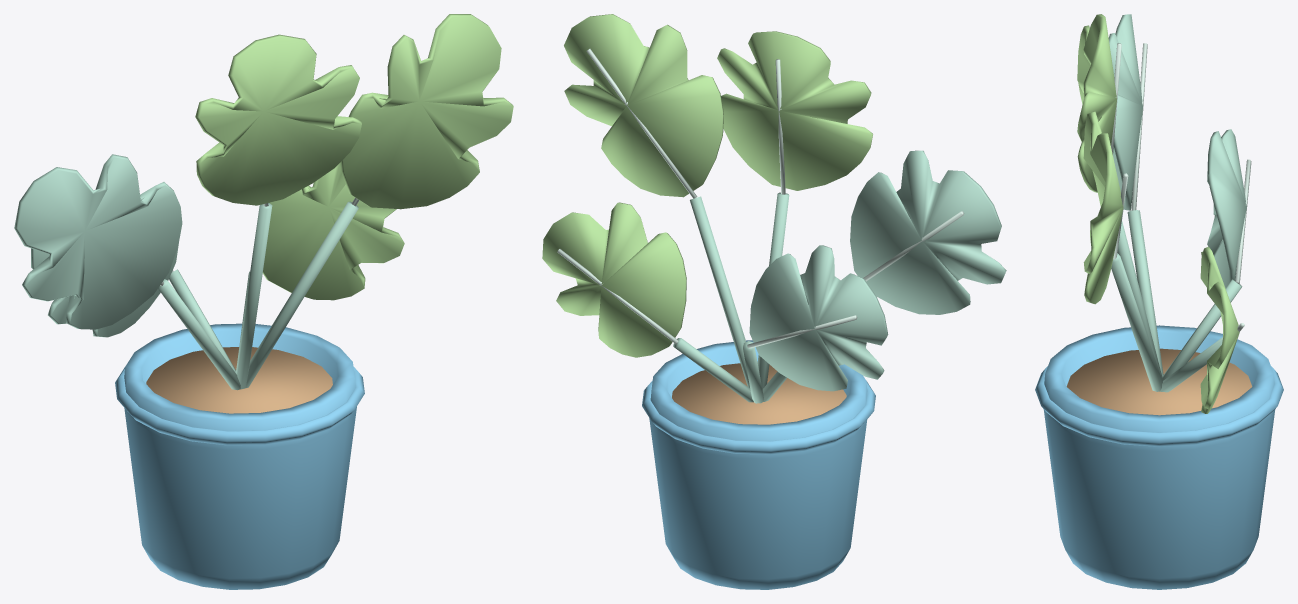
File: plant_monstera.glb
The picture shows the model from 3 angles, left to right: view 1: azimuth 30°, elevation 25°; view 2: azimuth 150°, elevation 25°; view 3: azimuth 270°, elevation 25°; orthographic projection. The views are drawn at different scales.
Visible parts, largest first — view 1: Body; view 2: Body; view 3: Body.
Boxes of the visible parts, x1,y1,x2,y2 form: Body: [14, 14, 513, 589]; Body: [542, 14, 1006, 589]; Body: [1035, 14, 1283, 589].
Size of the model in its own units: 0.8506 by 0.9 by 0.384.
5 materials, 5 textured.
